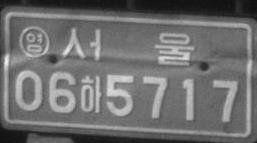0: (14, 68, 43, 112)
1: (175, 77, 203, 121)
5: (105, 73, 134, 117)
6: (48, 70, 77, 114)
7: (141, 74, 169, 119), (211, 78, 239, 123)
서울_D: (61, 26, 195, 67)
영: (18, 25, 50, 59)
하: (79, 74, 102, 114)
